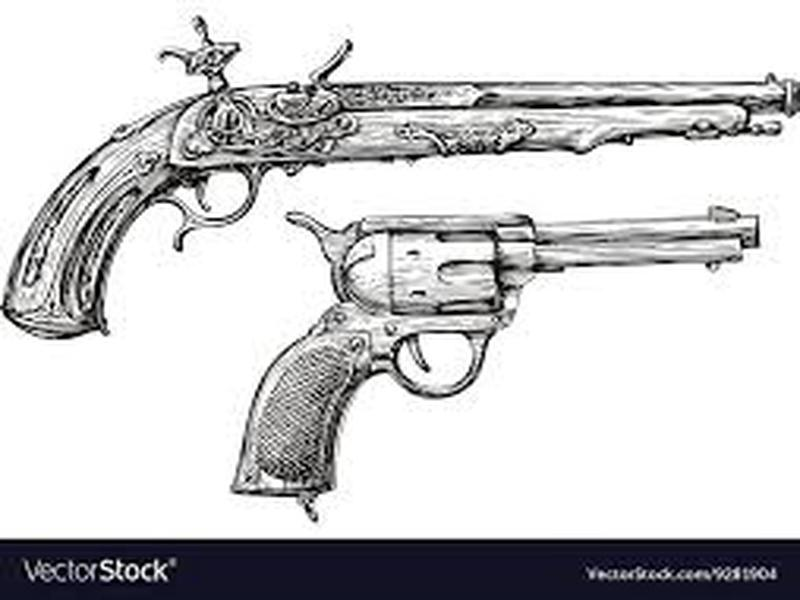gun: (23, 9, 800, 346), (216, 211, 800, 525)
